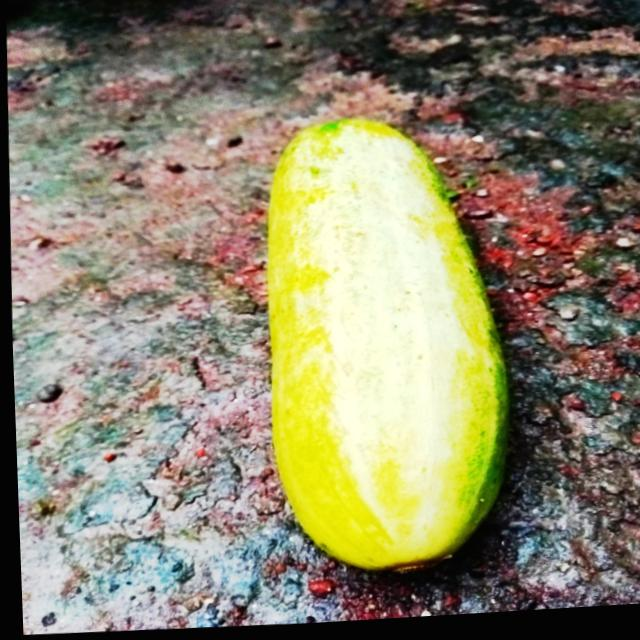Fresh-Cucumber: (249, 108, 524, 586)
